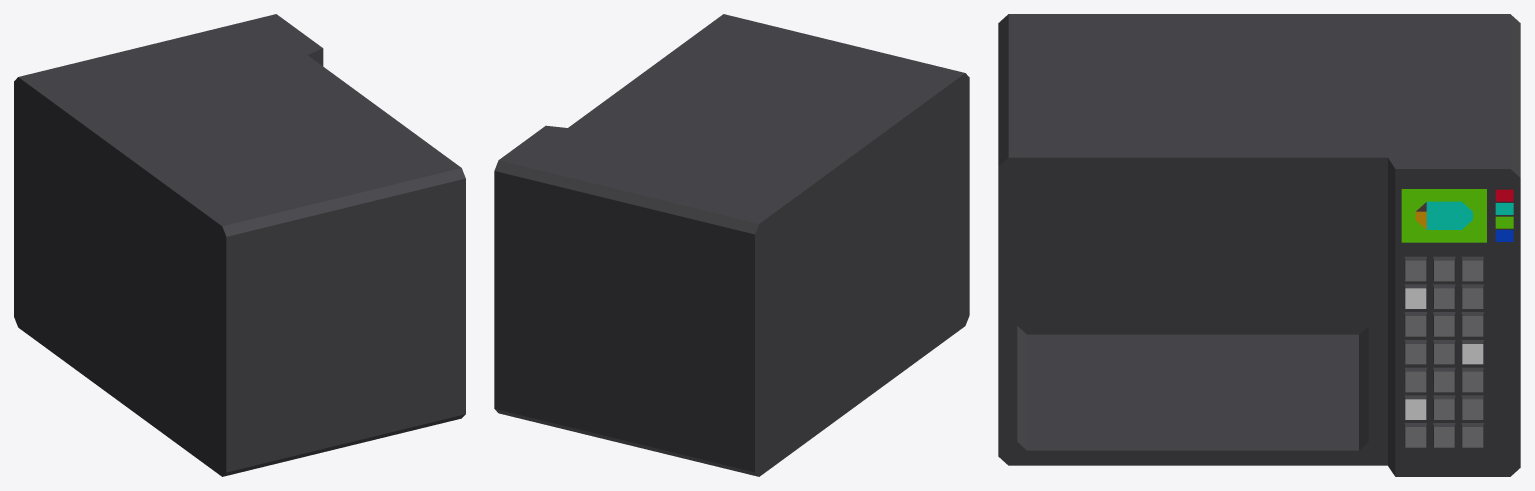
The model's file is Microwave.fbx.
3 renders of one model, left to right at view 1: azimuth 30°, elevation 25°; view 2: azimuth 150°, elevation 25°; view 3: azimuth 270°, elevation 25°, orthographic. The views are drawn at different scales.
Parts seen in each view (by area): view 1: Microwave; view 2: Microwave; view 3: Microwave.
Boxes of the visible parts, x1,y1,x2,y2 form: Microwave: (14,14,465,476); Microwave: (494,14,969,476); Microwave: (998,14,1520,476).
Bounding box in the file's own units: 43.82 × 39.83 × 61.18.
